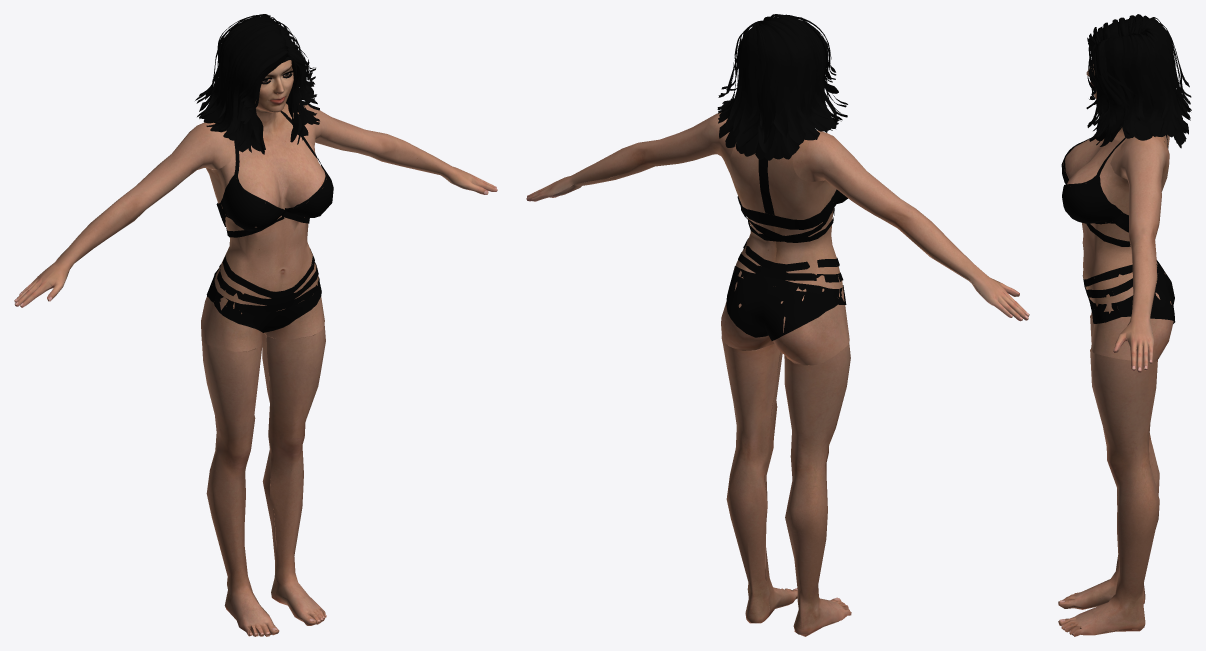
File: kate.glb
3 views of the same model, side by side, from view 1: azimuth 30°, elevation 25°; view 2: azimuth 150°, elevation 25°; view 3: azimuth 270°, elevation 25° (orthographic). The views are drawn at different scales.
Parts seen in each view (by area): view 1: Mesh_9, Mesh_1, Mesh_4, Mesh_3, Mesh_2; view 2: Mesh_9, Mesh_1, Mesh_2, Mesh_4, Mesh_3; view 3: Mesh_9, Mesh_1, Mesh_2, Mesh_3, Mesh_4.
Boxes of the visible parts, <box> form: Mesh_9: <box>14,60,497,636</box>; Mesh_1: <box>195,14,319,154</box>; Mesh_4: <box>206,249,321,332</box>; Mesh_3: <box>216,111,333,237</box>; Mesh_2: <box>199,18,316,152</box>; Mesh_9: <box>526,112,1029,636</box>; Mesh_1: <box>717,14,847,143</box>; Mesh_2: <box>718,17,842,160</box>; Mesh_4: <box>726,238,846,340</box>; Mesh_3: <box>737,157,847,242</box>; Mesh_9: <box>1058,64,1173,636</box>; Mesh_1: <box>1086,14,1191,145</box>; Mesh_2: <box>1089,17,1189,148</box>; Mesh_3: <box>1061,134,1168,246</box>; Mesh_4: <box>1082,260,1175,323</box>.
Size of the model in its own units: 150 by 174 by 35.02.
Materials: 2 (1 with a texture image).
